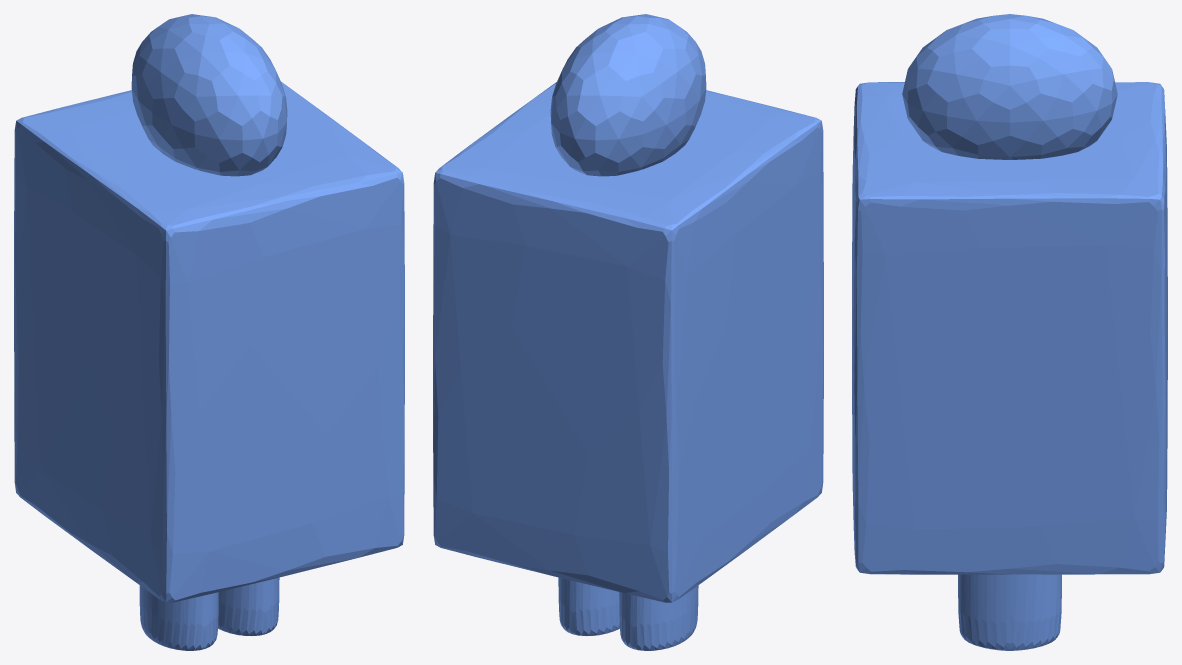
The model's file is hero9_variant1.glb.
3 renders of one model, left to right at view 1: azimuth 30°, elevation 25°; view 2: azimuth 150°, elevation 25°; view 3: azimuth 270°, elevation 25°, orthographic.
Visible parts, largest first — view 1: hero9; view 2: hero9; view 3: hero9.
Boxes of the visible parts, bbox=[...] form: hero9: bbox=[14, 14, 404, 650]; hero9: bbox=[433, 14, 823, 650]; hero9: bbox=[852, 14, 1167, 650].
Size of the model in its own units: 0.7995 by 1.9 by 0.8989.
